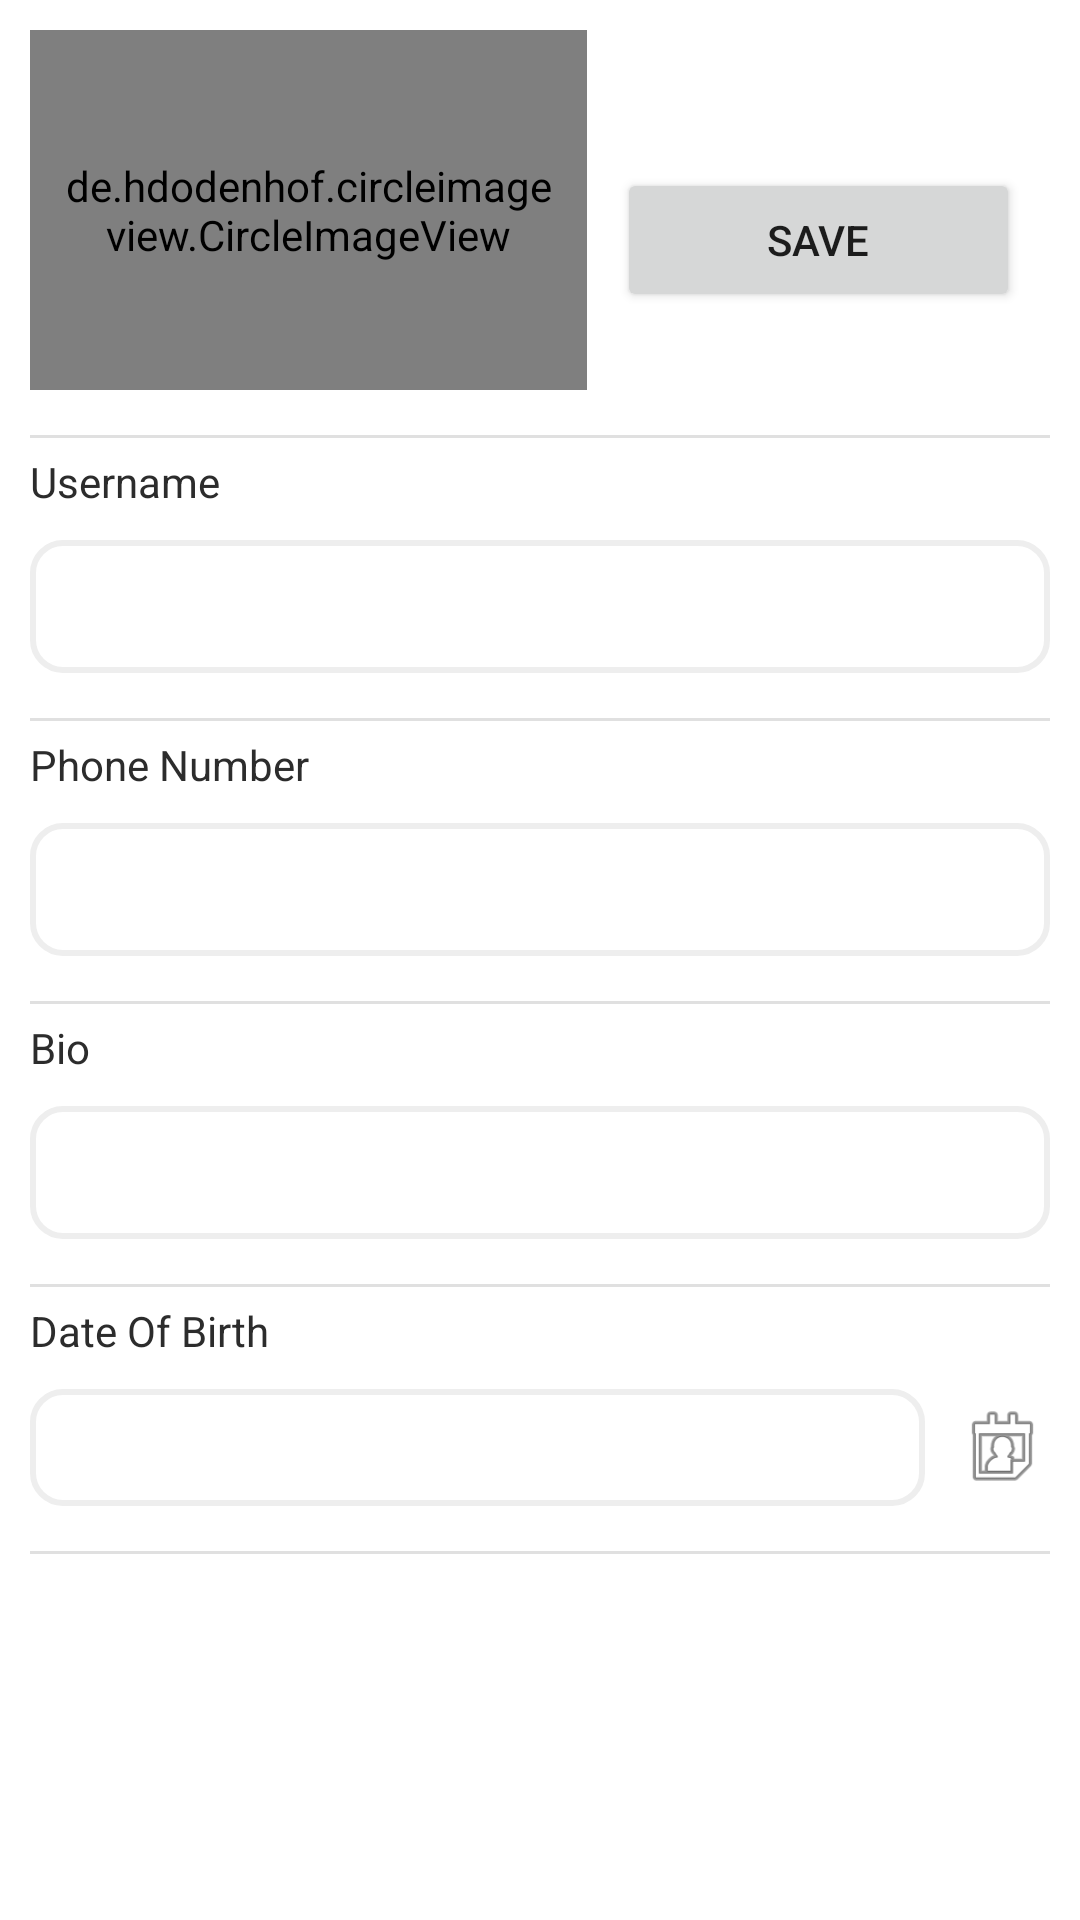

Where to tap for icons on this 1080px x 1920px app screen, as [x,y]:
calendar: [1002,1446]
